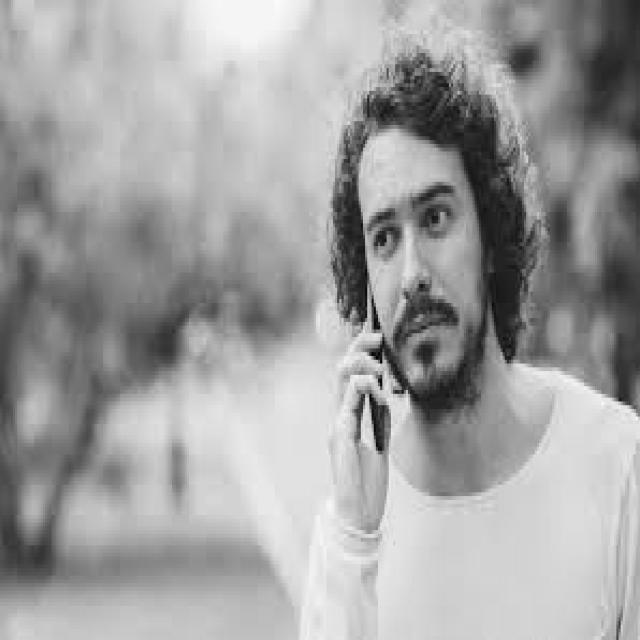phone: (309, 182, 406, 515)
